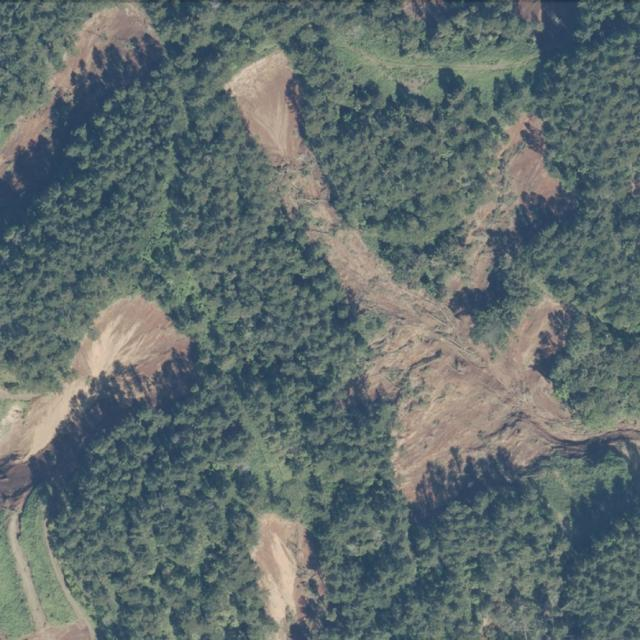landslide: (225, 50, 605, 502), (0, 297, 191, 507), (0, 3, 161, 223), (251, 515, 326, 640)
